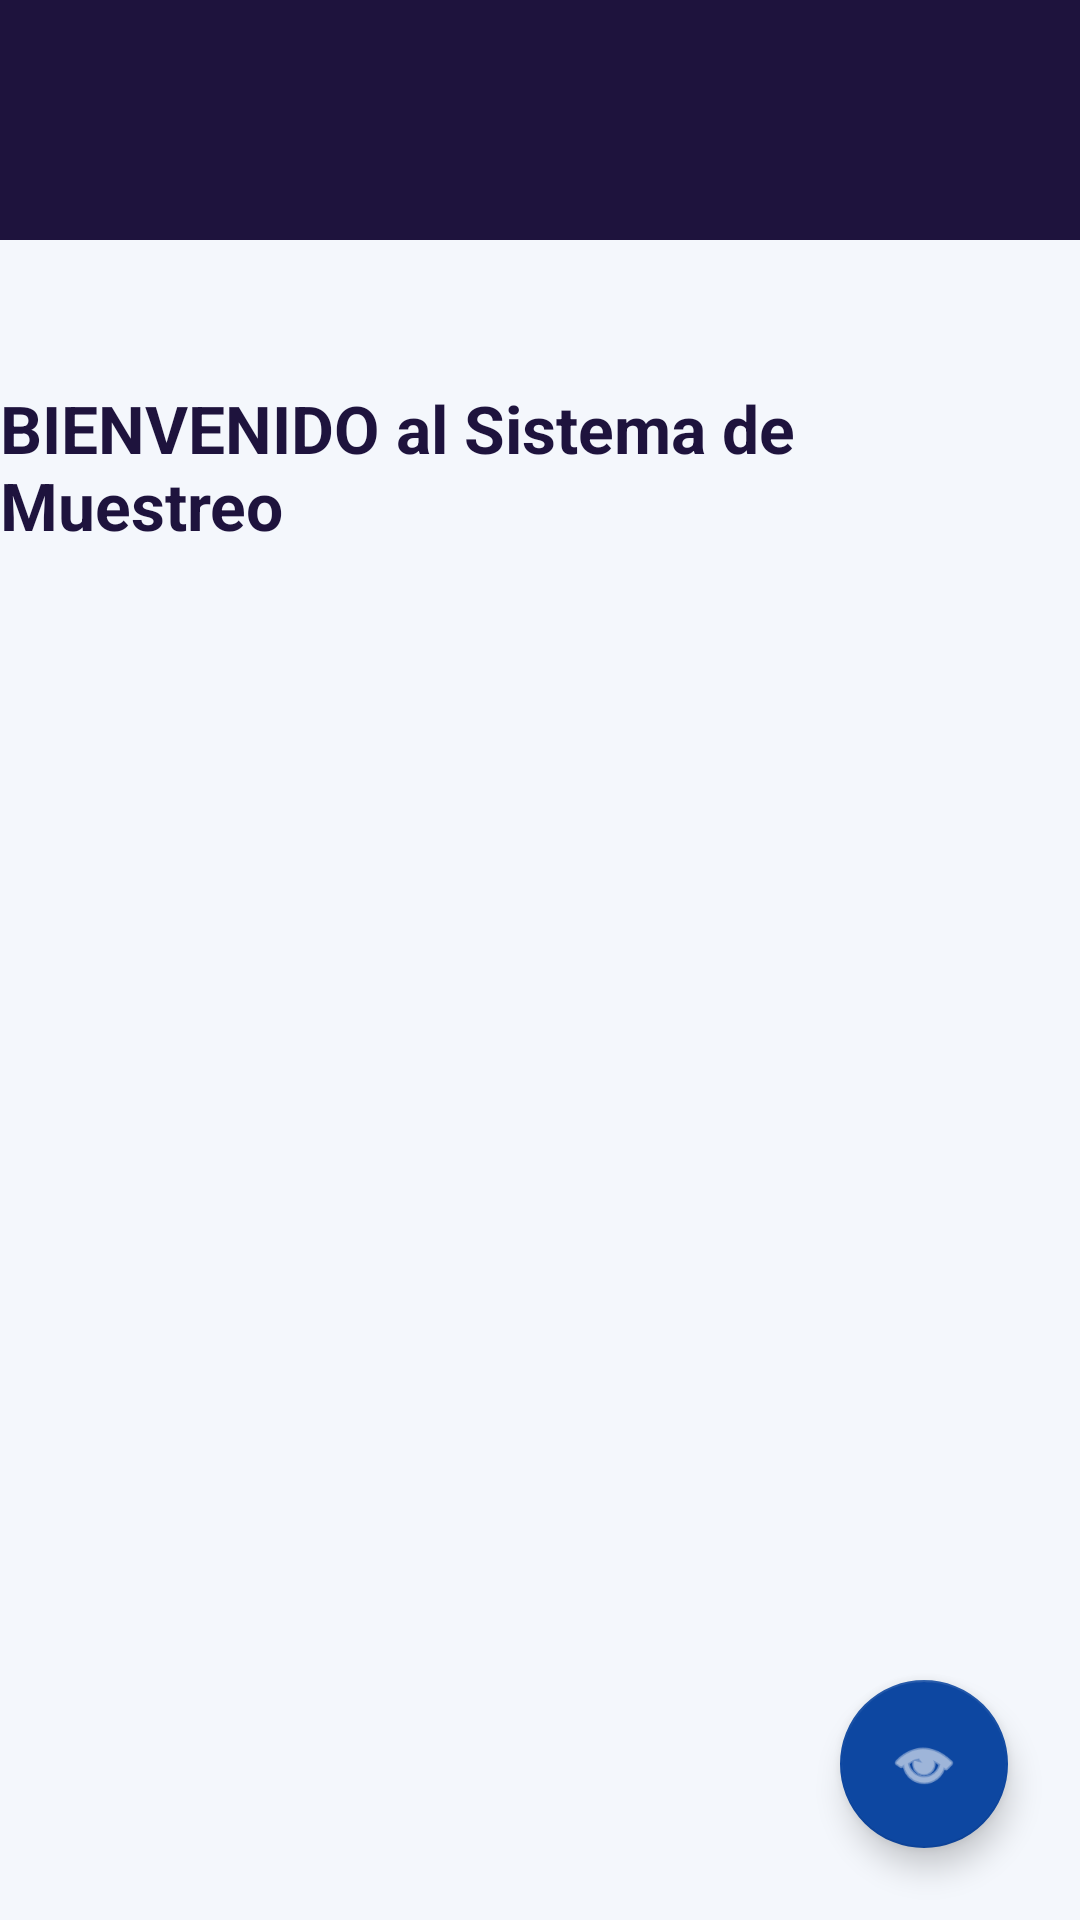

Icons on this 1080px×1920px Android screen, each with the point to tap as [x,y]:
Abrir visor de PDF: [924,1764]
